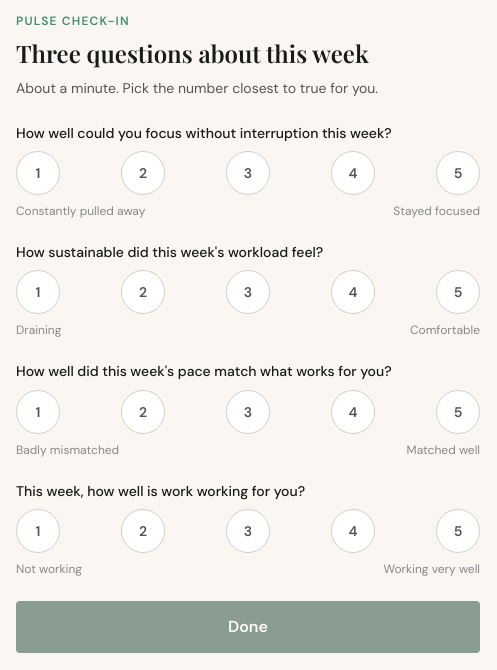
Test: PulseCheckinPage › keeps Done disabled until all four rows are answered
Expected: the text "How well could you focus without interruption this week?" is shown, [16,124,392,142]
Expected: the button "Done" is disabled, [16,601,480,653]
Click the 1st radio button labelled "3": click(248, 173) [226,151,270,195]
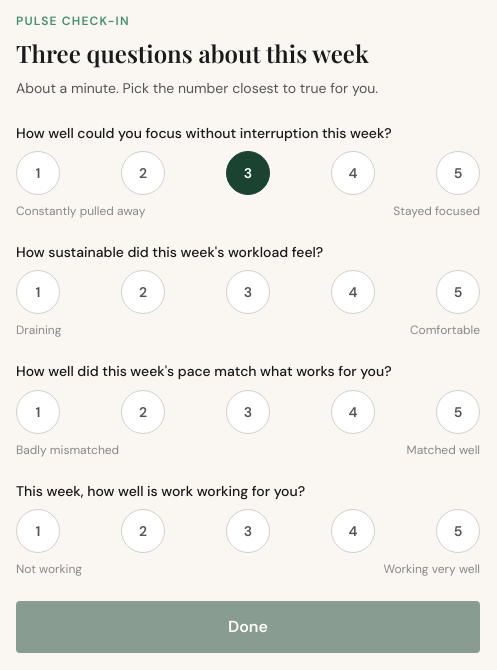
Expected: the button "Done" is disabled, [16,601,480,653]
Expected: the text "How well could you focus without interruption this week?" is shown, [16,124,392,142]
Click the 1st radio button labelled "4": click(353, 173) [331,151,375,195]
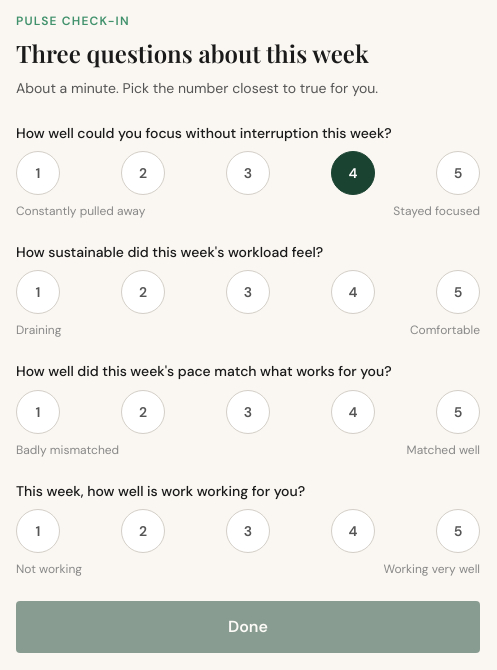
Click the 2nd radio button labelled "4": click(353, 292) [331,270,375,314]
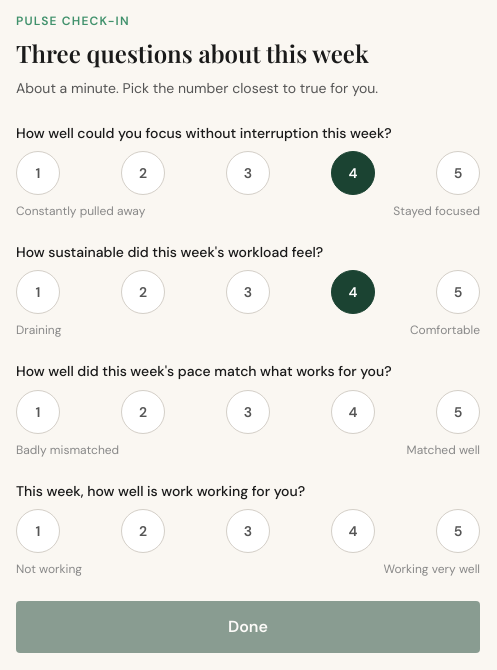
Click the 3rd radio button labelled "4": click(353, 412) [331,390,375,434]
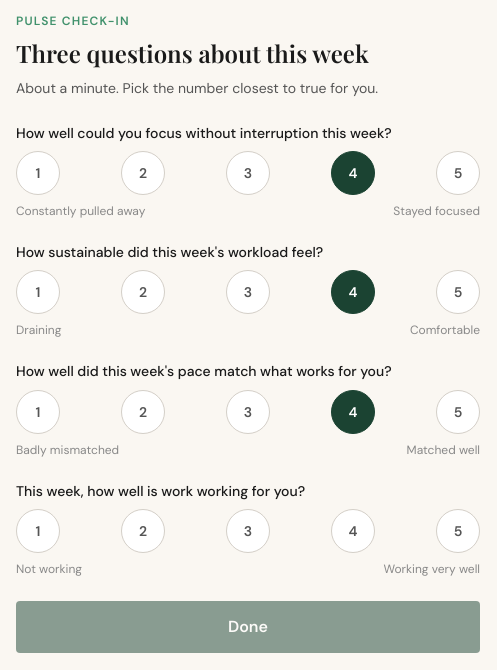
Click the 4th radio button labelled "4": click(353, 531) [331,509,375,553]
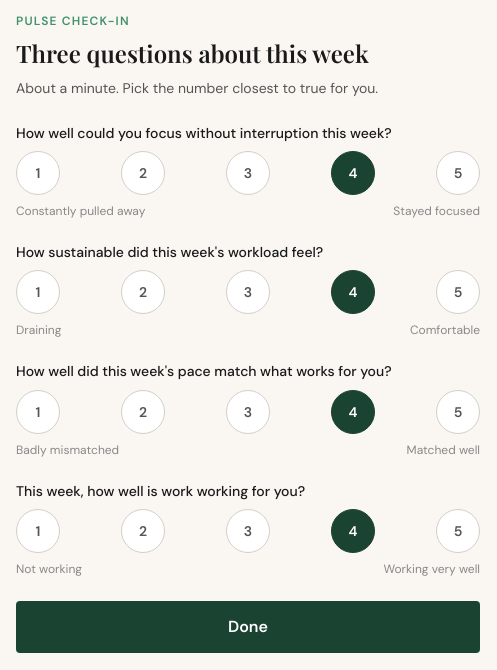
Expected: the button "Done" is enabled, [16,601,480,653]
